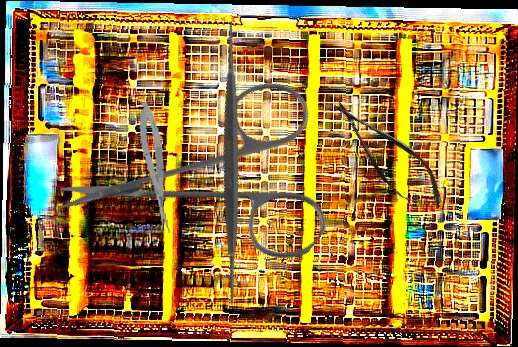Iris Scissors: (52, 13, 382, 345)
Micro Scissor: (320, 87, 456, 224), (134, 100, 175, 235)
Spatula Surgical: (81, 11, 383, 313)
